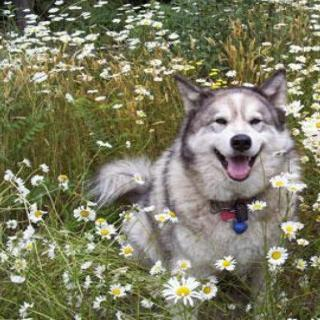dog: (170, 73, 309, 195)
nose: (227, 131, 254, 152)
